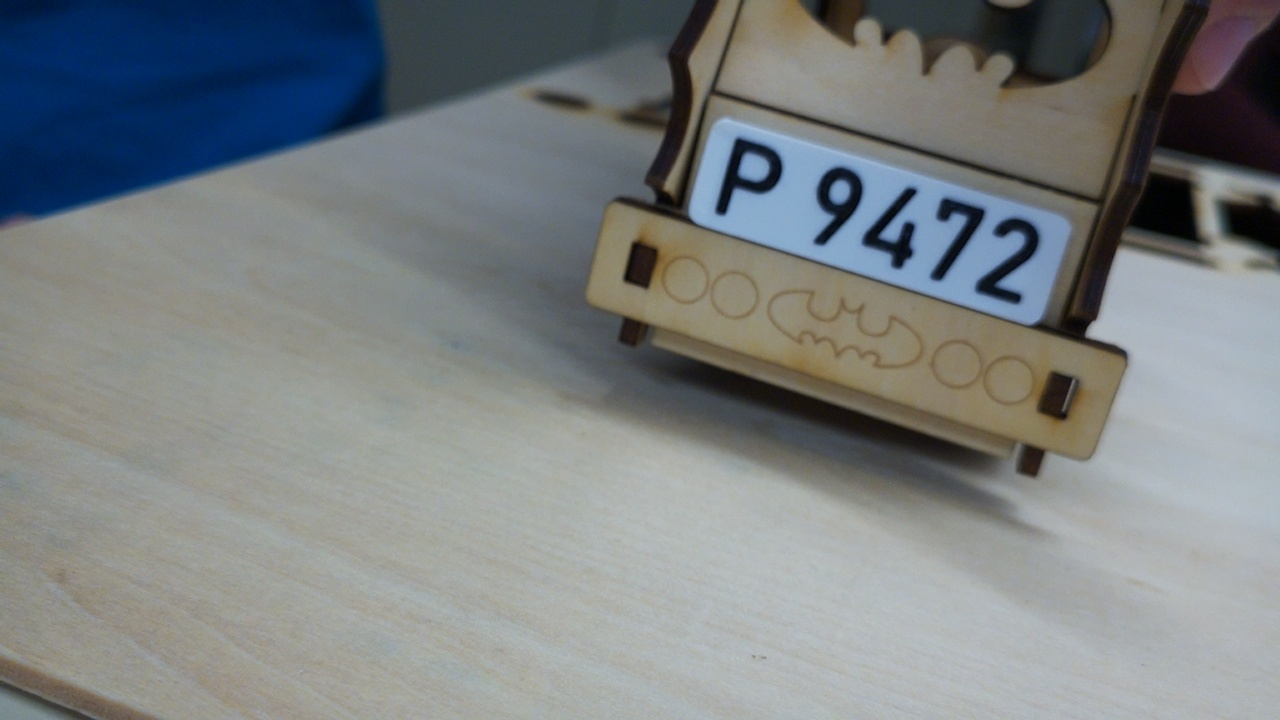license_plate: (686, 112, 1075, 327)
